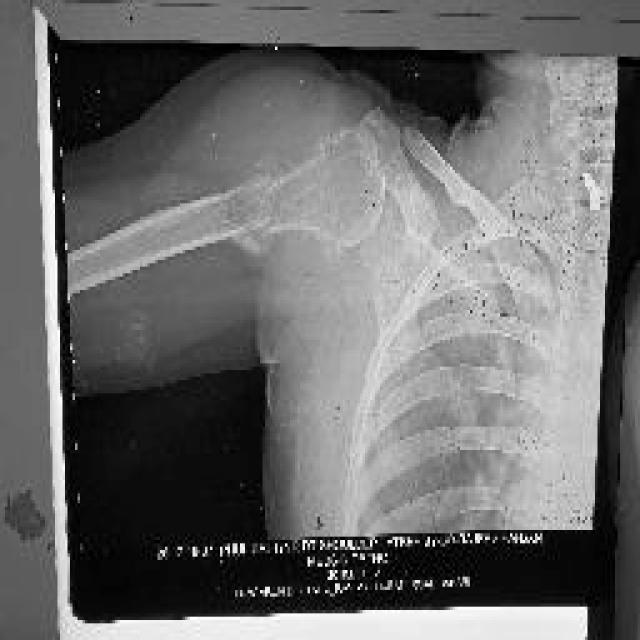bone-cancer: (231, 133, 385, 256)
